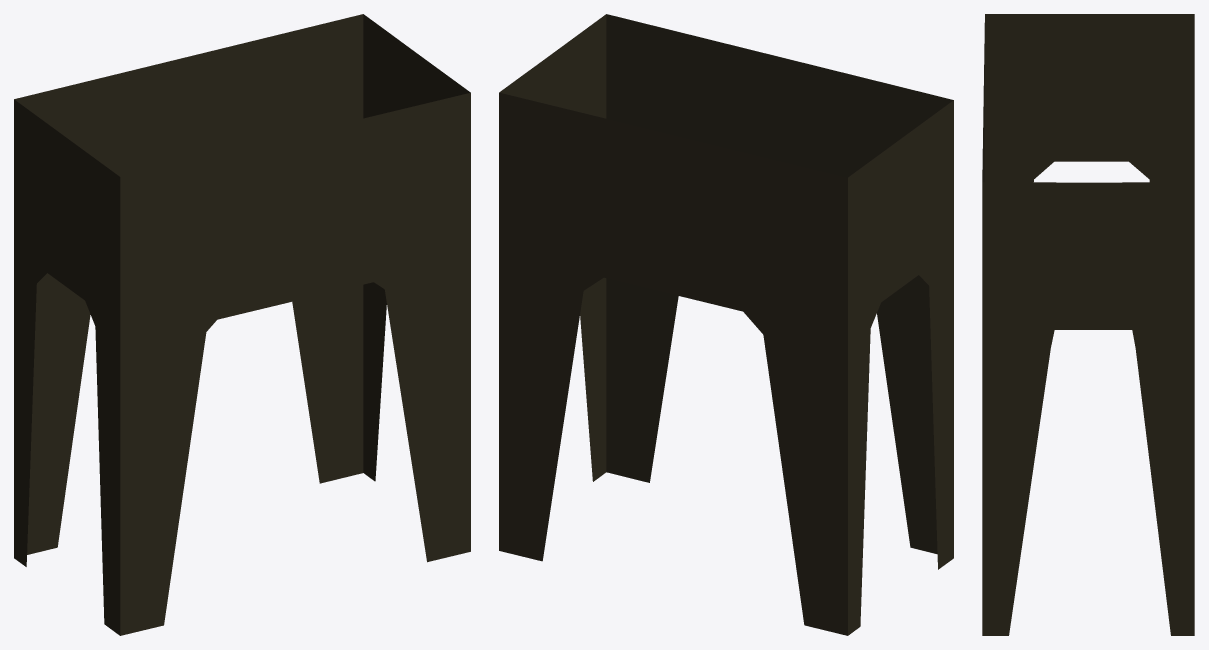
The model's file is Road_Ramp_Bridge.fbx.
3 views of the same model, side by side, from view 1: azimuth 30°, elevation 25°; view 2: azimuth 150°, elevation 25°; view 3: azimuth 270°, elevation 25° (orthographic).
Parts seen in each view (by area): view 1: Road_Ramp_Bridge; view 2: Road_Ramp_Bridge; view 3: Road_Ramp_Bridge.
Part boxes in pixels (box(x1,y1,x2,y2)): Road_Ramp_Bridge: box(14, 14, 470, 635); Road_Ramp_Bridge: box(499, 14, 953, 635); Road_Ramp_Bridge: box(982, 14, 1194, 635).
Bounding box in the file's own units: 0.3 × 0.1599 × 0.3767.
